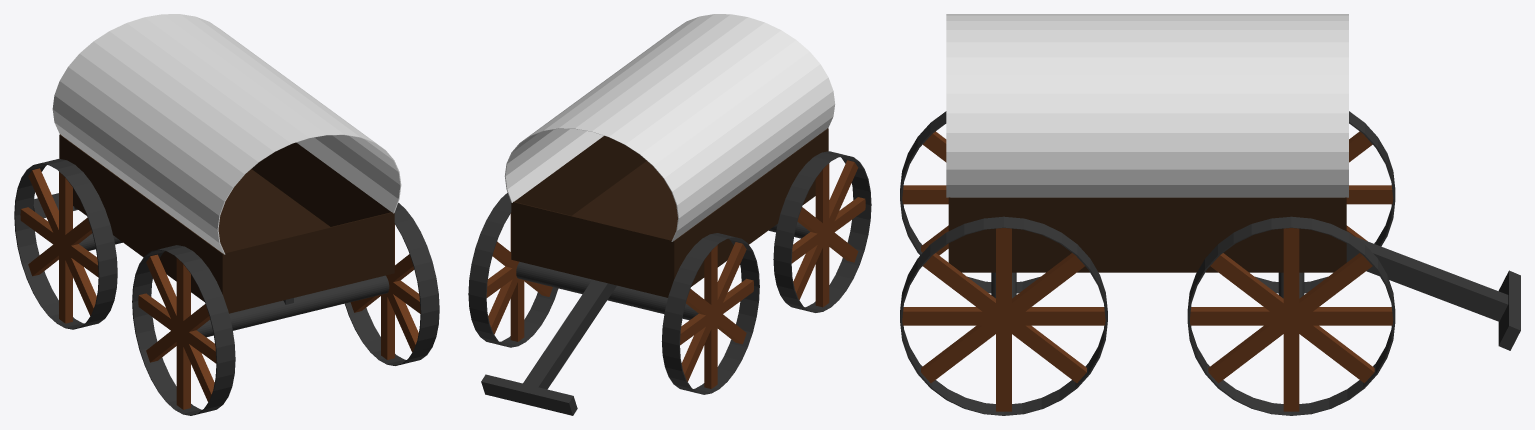
Rendered from Wagon2WIP.fbx.
3 renders of one model, left to right at view 1: azimuth 30°, elevation 25°; view 2: azimuth 150°, elevation 25°; view 3: azimuth 270°, elevation 25°, orthographic. The views are drawn at different scales.
Parts seen in each view (by area): view 1: body; view 2: body; view 3: body.
Boxes of the visible parts, <box> form: body: <box>14,14,439,415</box>; body: <box>468,14,871,415</box>; body: <box>900,14,1520,415</box>.
Size of the model in its own units: 255 by 287 by 505.
